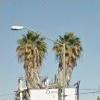Palm tree: (13, 23, 78, 80)
